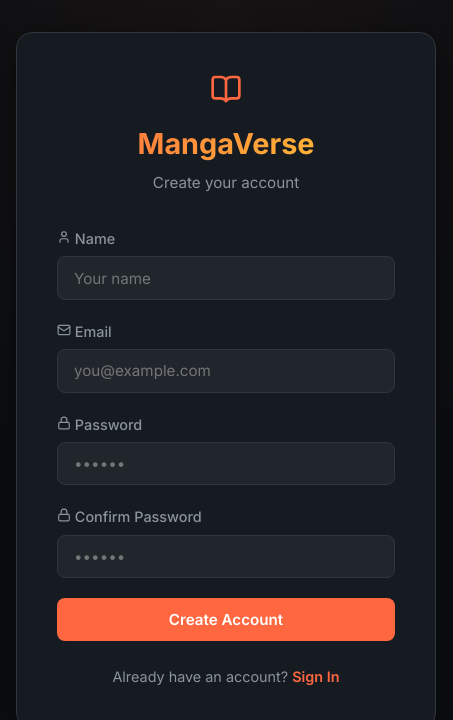
it: Authentication Flows (Integration) › shows validation errors on register password mismatch
Type "Test User" into the field with placeholder "Your name" at (226, 278), box [57,256,395,300]
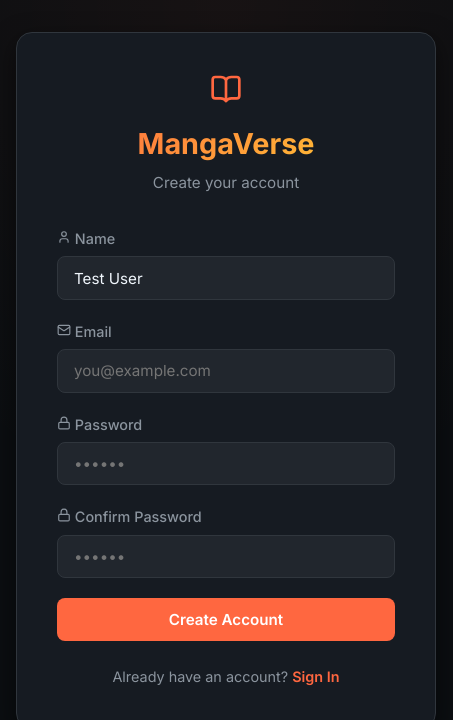
Type "test@example.com" into the field with placeholder "you@example.com" at (226, 371), box [57,349,395,393]
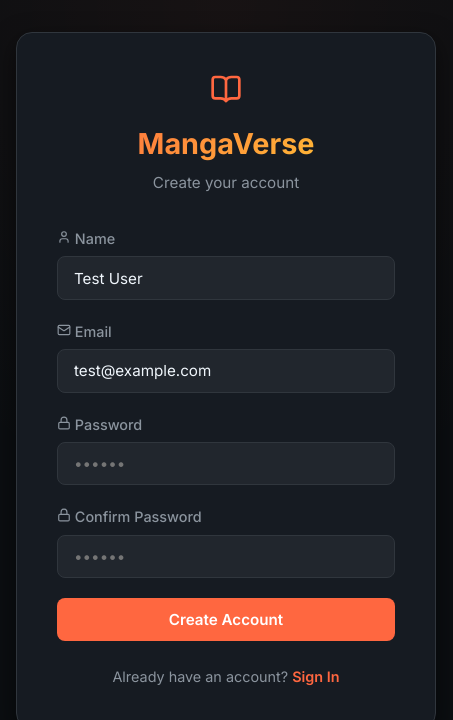
Type "password123" into the 1st password field with placeholder "••••••" at (226, 464), box [57,442,395,485]
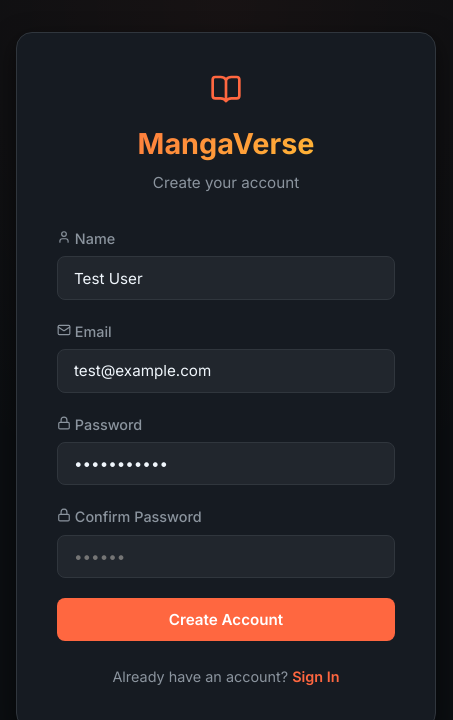
Type "differentpassword" into the password field with placeholder "••••••" at (226, 556), box [57,535,395,578]
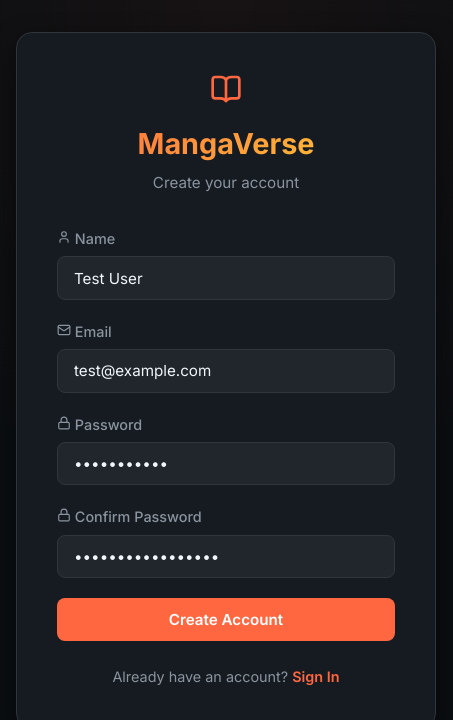
Click the button "Create Account" at (226, 620), box [57,598,395,641]
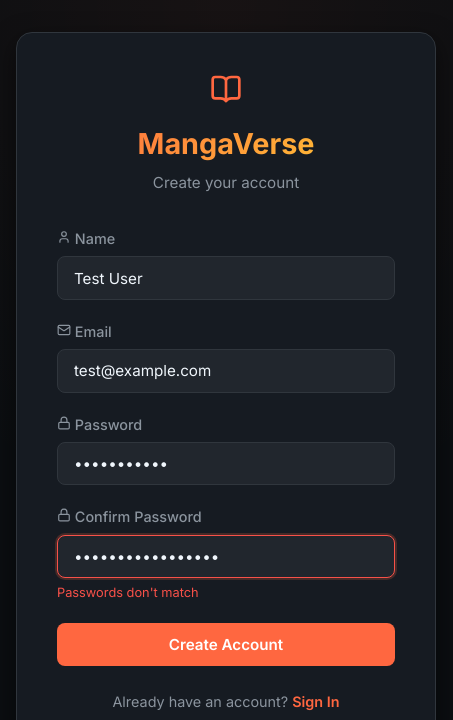
expect the text "Passwords don't match" is shown: met, box [57,585,199,600]
